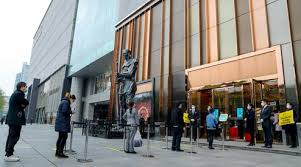mask: (63, 87, 75, 105), (15, 80, 30, 94), (259, 97, 267, 107), (285, 101, 293, 109), (189, 103, 196, 112), (246, 103, 254, 110)
